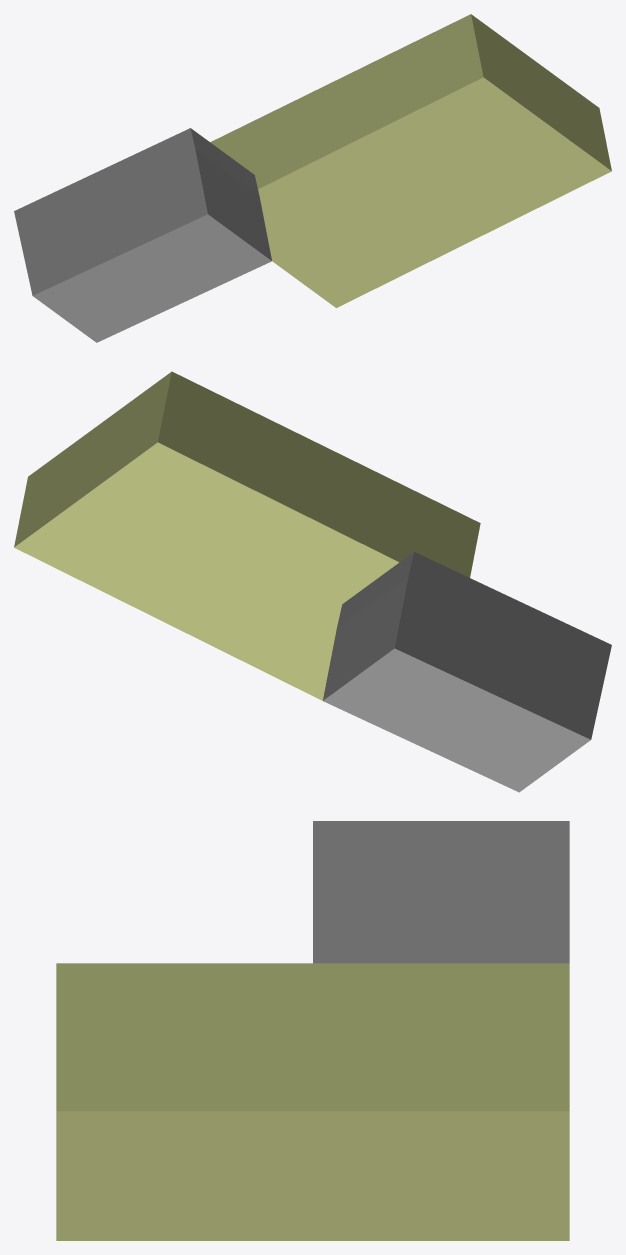
The picture shows the model from 3 angles, top to bottom: view 1: azimuth 30°, elevation 25°; view 2: azimuth 150°, elevation 25°; view 3: azimuth 270°, elevation 25°; orthographic projection. The views are drawn at different scales.
Visible parts, largest first — view 1: 0_1_2_0_1_3_0_0_2_3_3; view 2: 0_1_2_0_1_3_0_0_2_3_3; view 3: 0_1_2_0_1_3_0_0_2_3_3.
Boxes of the visible parts, x1=… form: 0_1_2_0_1_3_0_0_2_3_3: x1=14, y1=14, x2=611, y2=342; 0_1_2_0_1_3_0_0_2_3_3: x1=14, y1=371, x2=611, y2=792; 0_1_2_0_1_3_0_0_2_3_3: x1=56, y1=821, x2=569, y2=1240.
Bounding box in the file's own units: 12.67 × 4.51 × 6.
